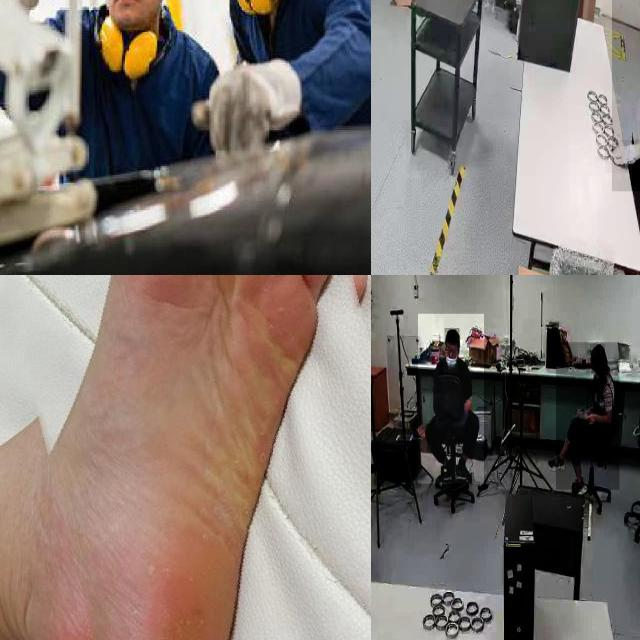Barefoots: (37, 275, 334, 640)
Ear-protection: (87, 3, 177, 79), (210, 0, 312, 24)
face_mask: (590, 357, 604, 384), (444, 348, 458, 372)
hand_glove: (604, 139, 640, 173)
hand_noglove: (585, 411, 598, 425)
head_nohelmet: (444, 328, 460, 343), (590, 344, 606, 356)
person: (0, 0, 209, 182), (166, 0, 371, 161), (418, 314, 484, 484), (556, 342, 620, 491), (611, 0, 640, 192)
shoes: (455, 456, 476, 488), (436, 456, 456, 486), (548, 452, 568, 476)
